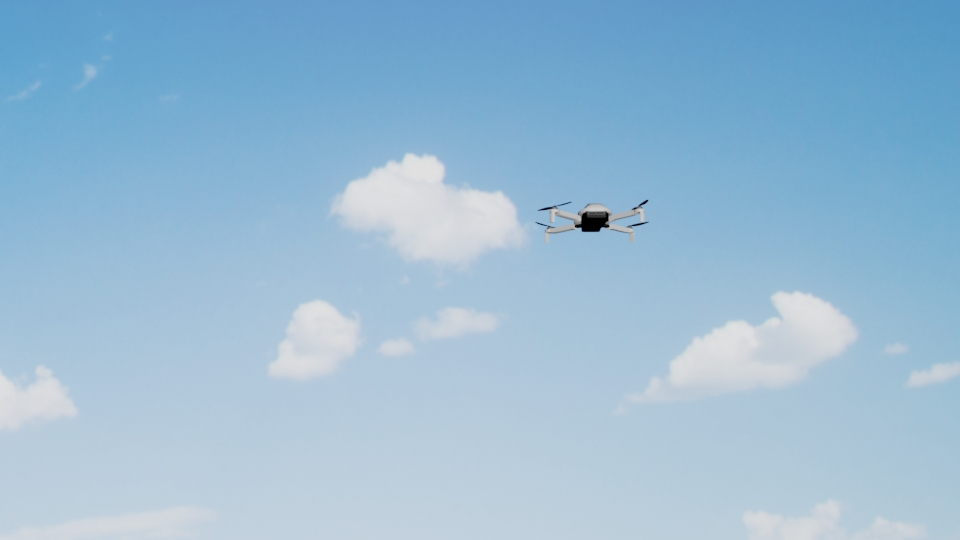drone: (534, 197, 653, 244)
